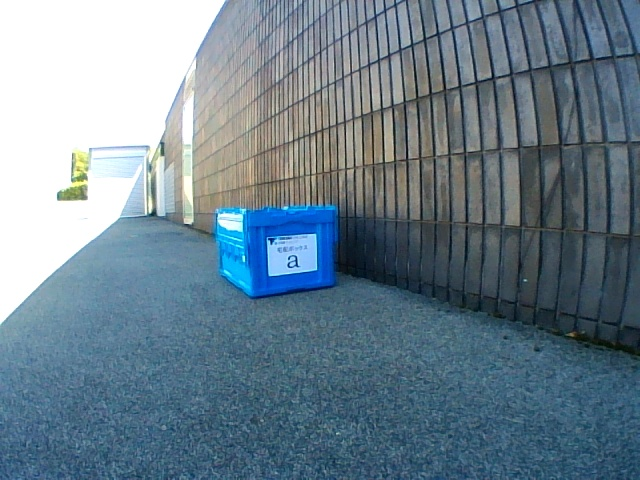blue_box: (215, 205, 338, 297)
tag_a: (272, 240, 311, 270)
